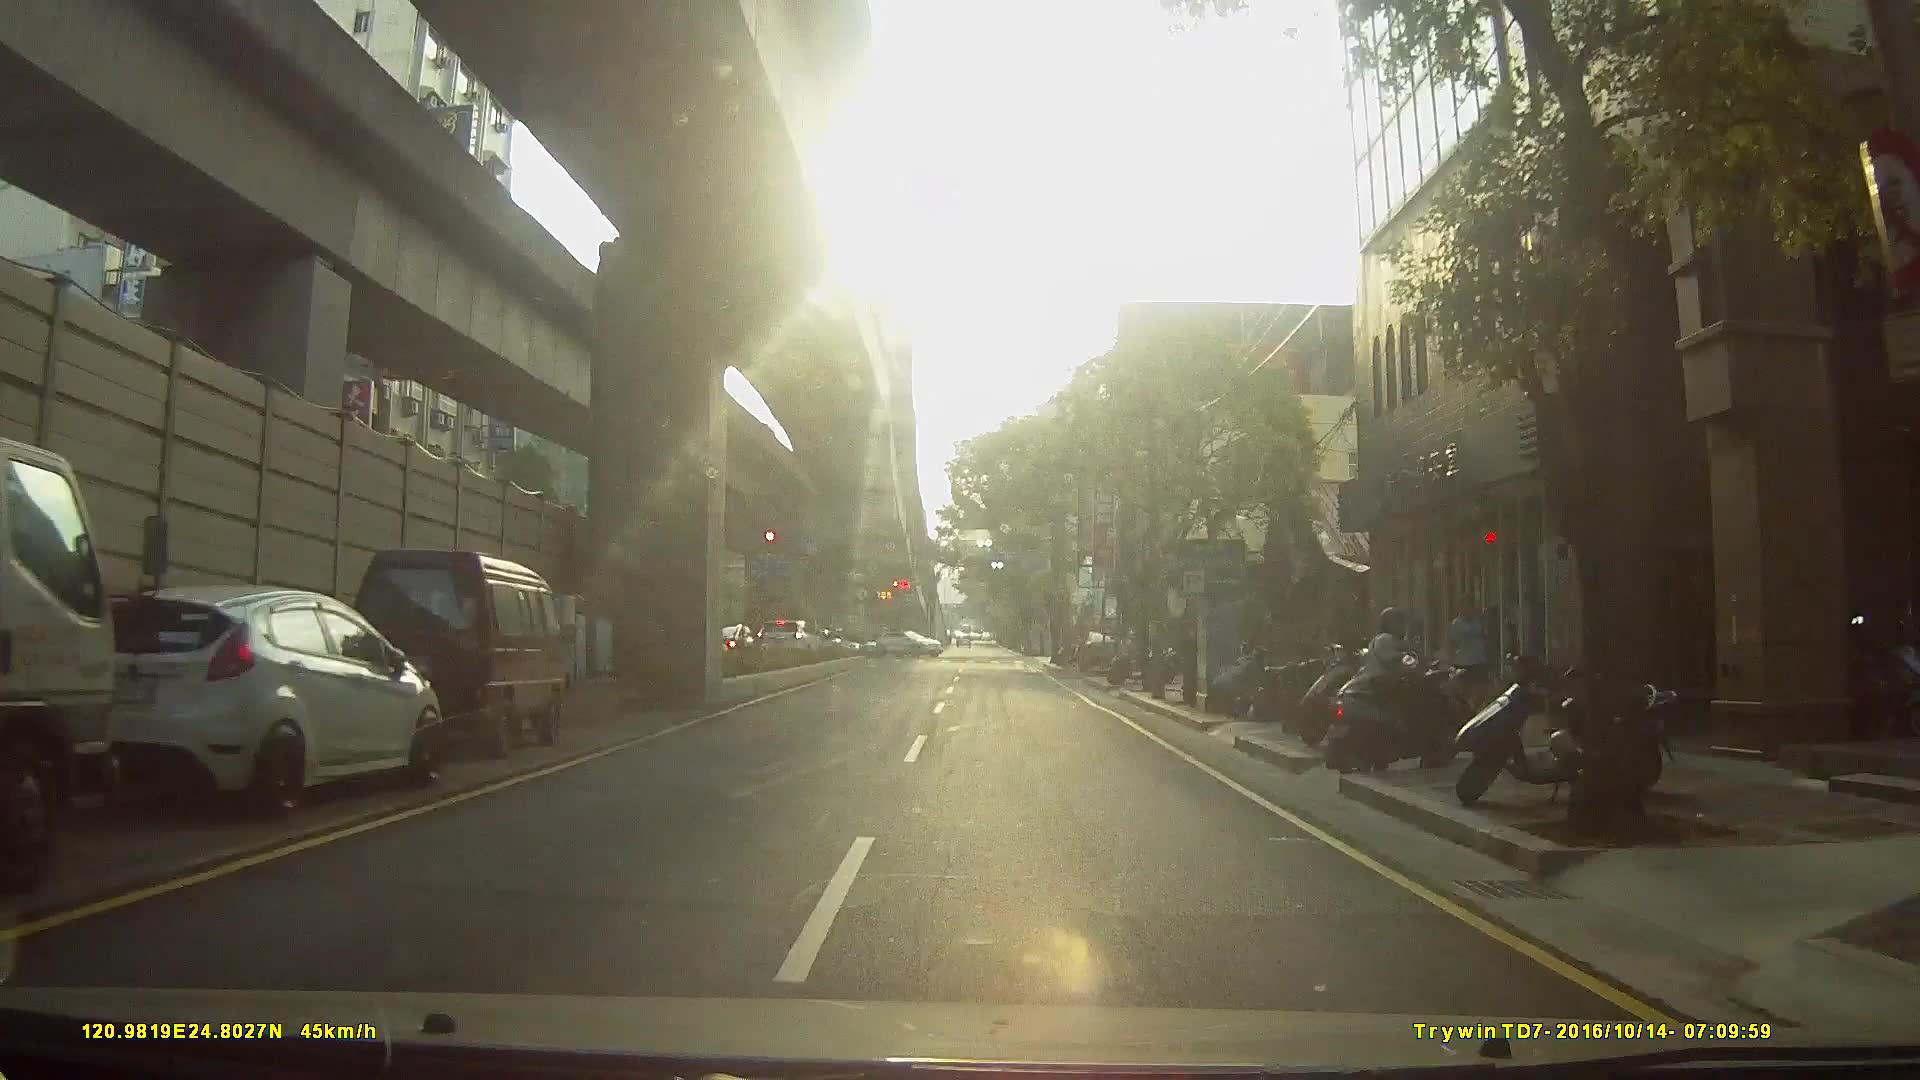pedestrian: (1439, 595, 1494, 726)
rider: (1323, 605, 1483, 783)
vehicle: (46, 571, 442, 831), (1, 436, 188, 878), (329, 543, 580, 764), (753, 617, 826, 661), (1073, 626, 1123, 671), (871, 628, 943, 657)
